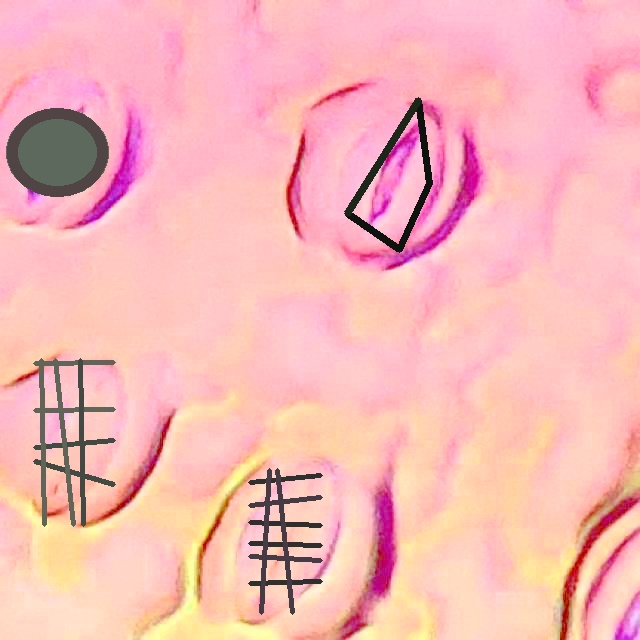close: (33, 358, 115, 526), (249, 469, 322, 614)
open: (344, 97, 432, 252), (6, 108, 108, 195)
